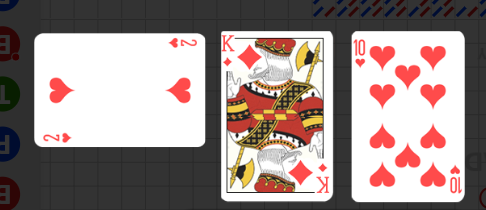10H: (448, 162, 462, 195)
2H: (42, 130, 74, 144), (166, 37, 198, 50)
